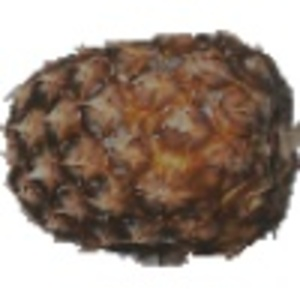abacaxi: (1, 24, 297, 254)
